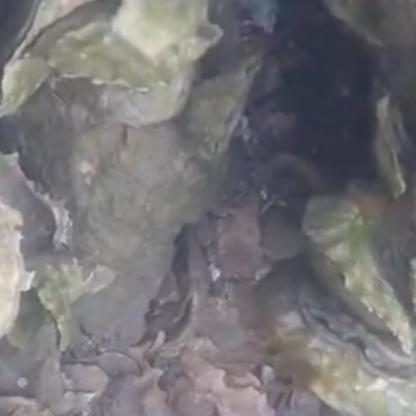Oyster-Closed: (305, 194, 412, 348), (3, 0, 123, 122)
